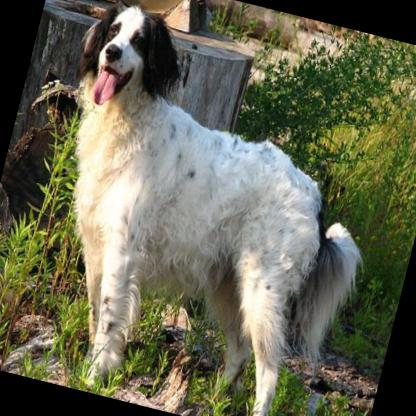English_setter: (3, 0, 411, 416)
